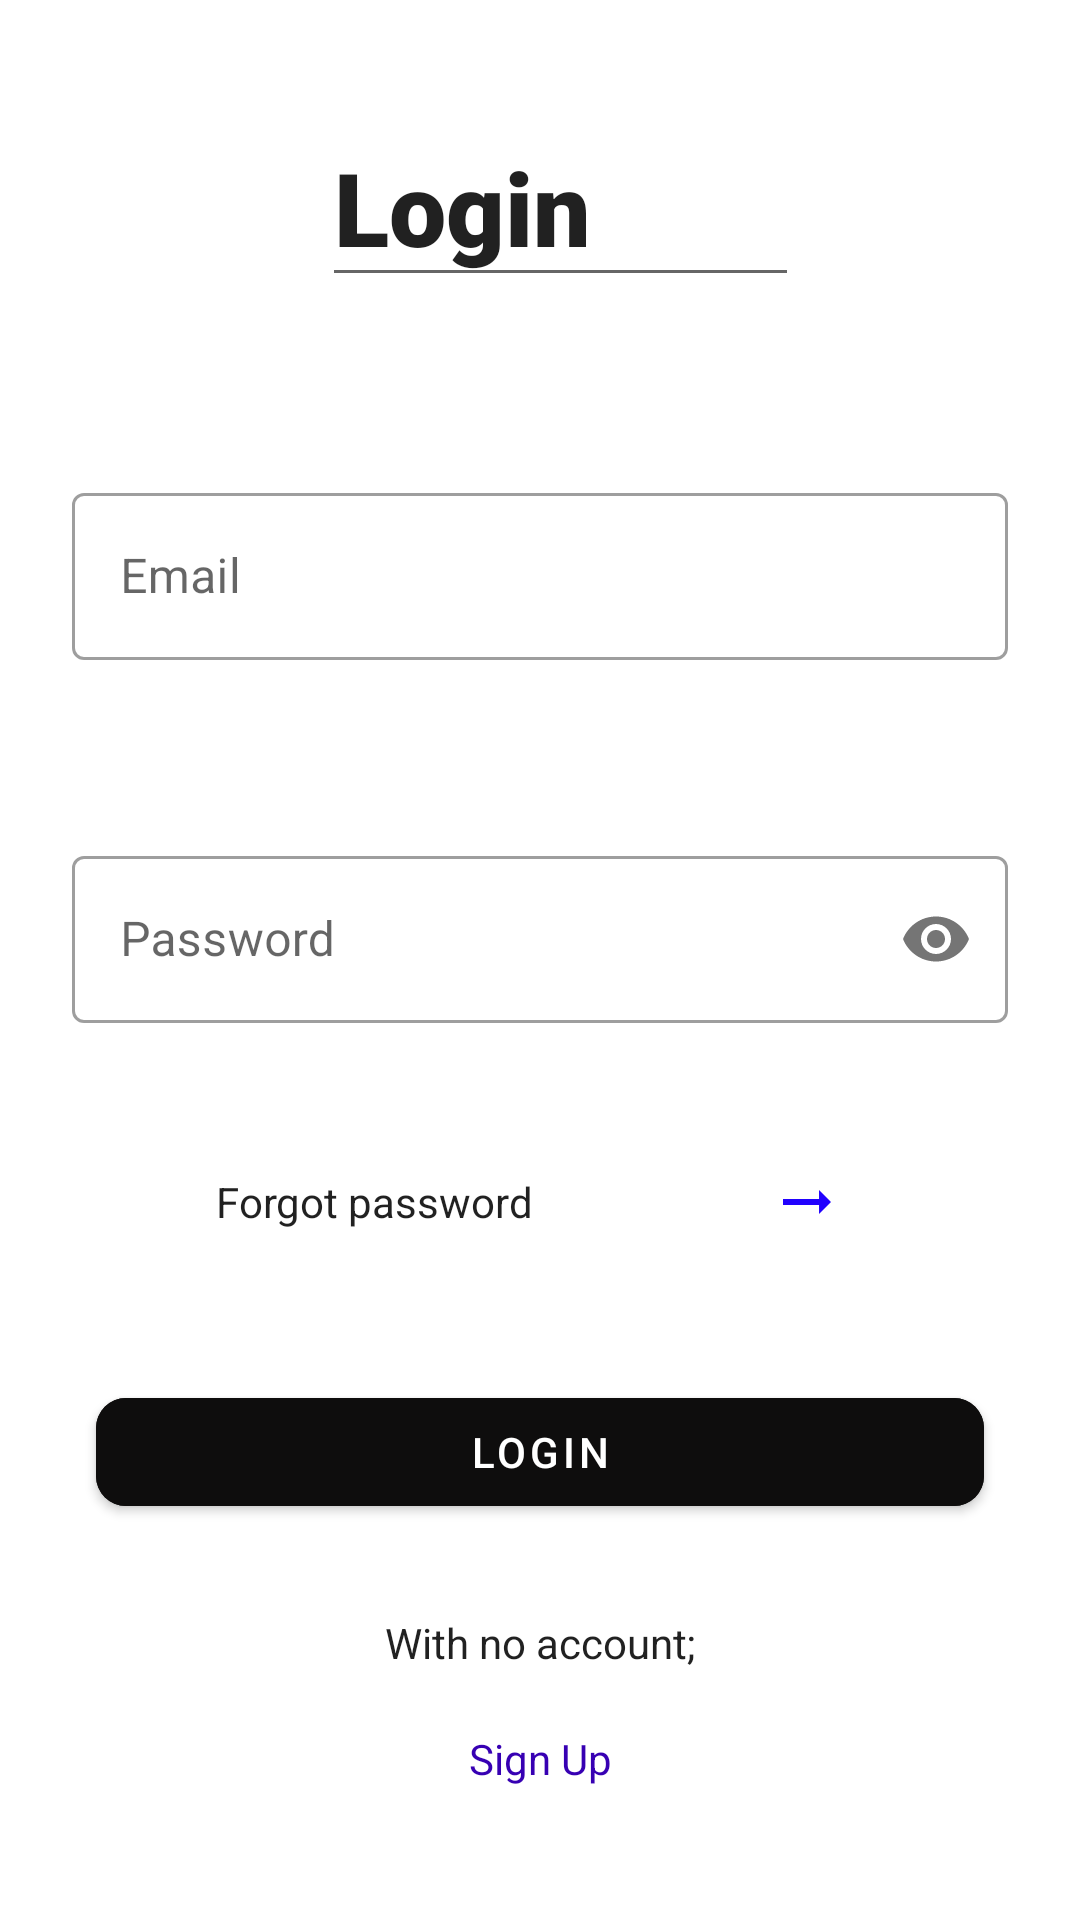

Icon bounding boxes for this 1080*1920 phone screenshot, format (x1, y1, x2, y2):
arrow right: (783, 1190, 831, 1214)
